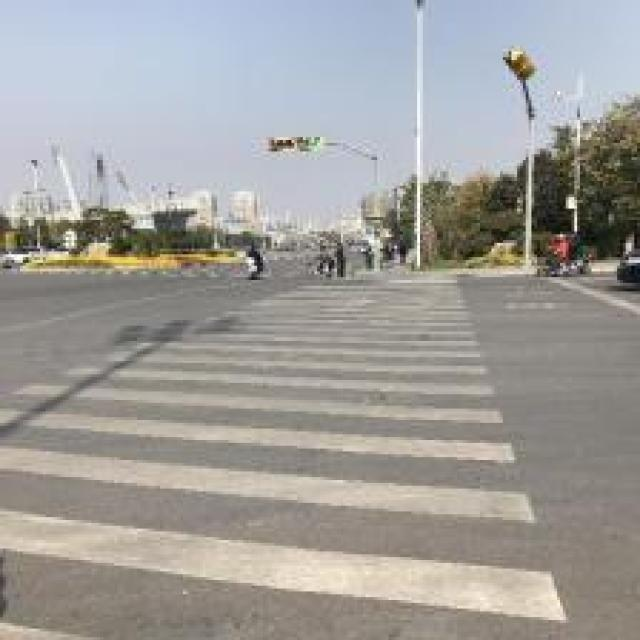walk-crossing: (276, 284, 470, 639)
